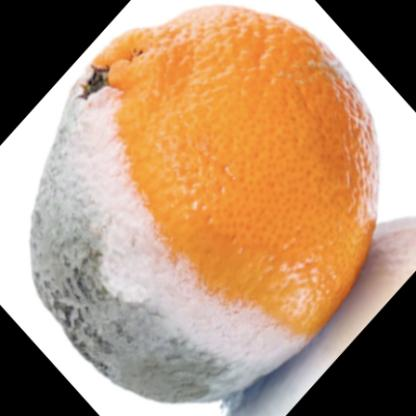rotten: (34, 6, 379, 406)
